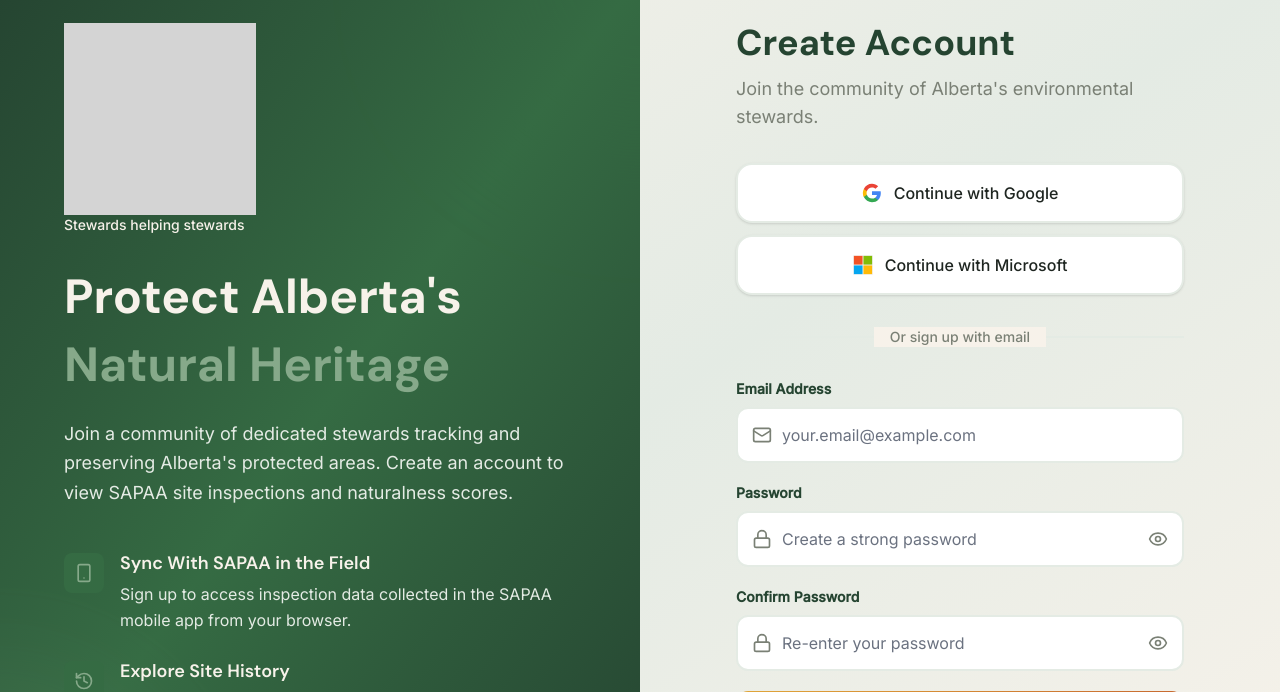
it: SignupPage › handles Microsoft sign-in error
Step 1. Click the button "Continue with Microsoft" → click(960, 265), box [736, 235, 1184, 295]
(page scrolled)
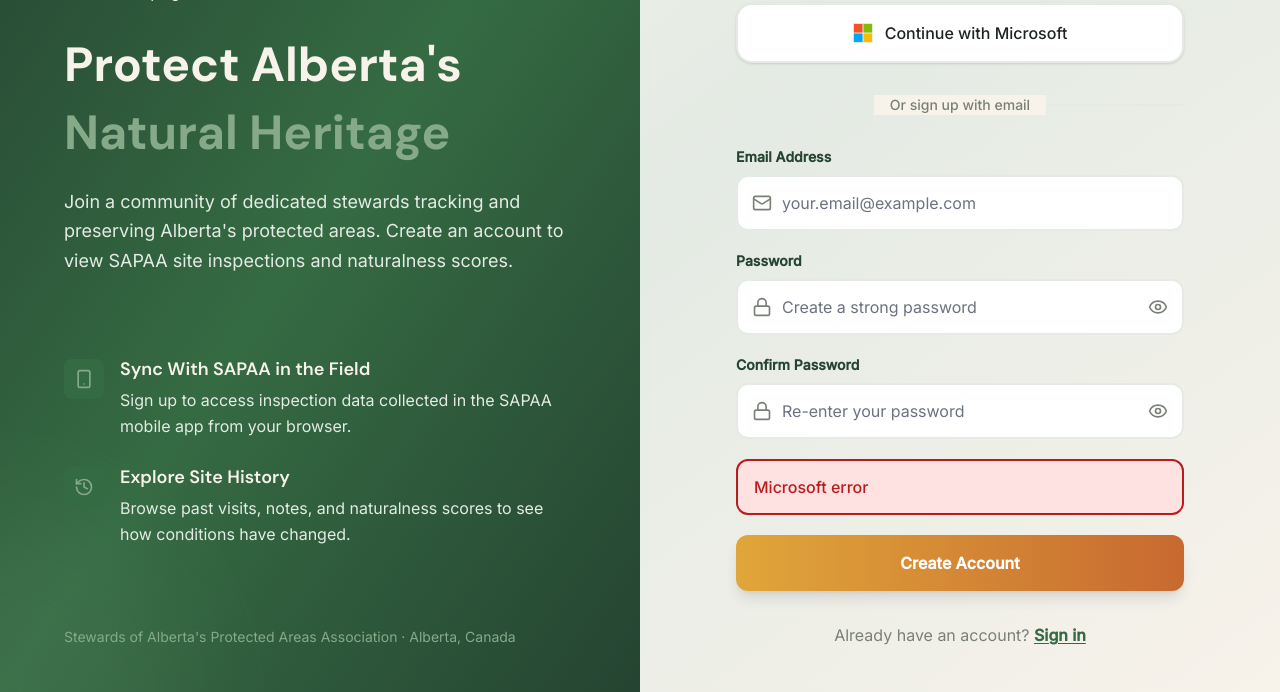
Expected: the text "Microsoft error" is shown, [736, 459, 1184, 515]
